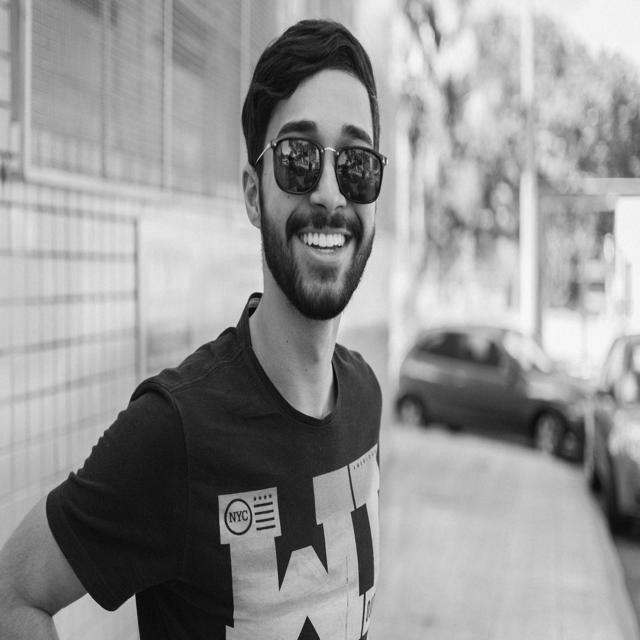Happiness: (252, 66, 386, 326)
